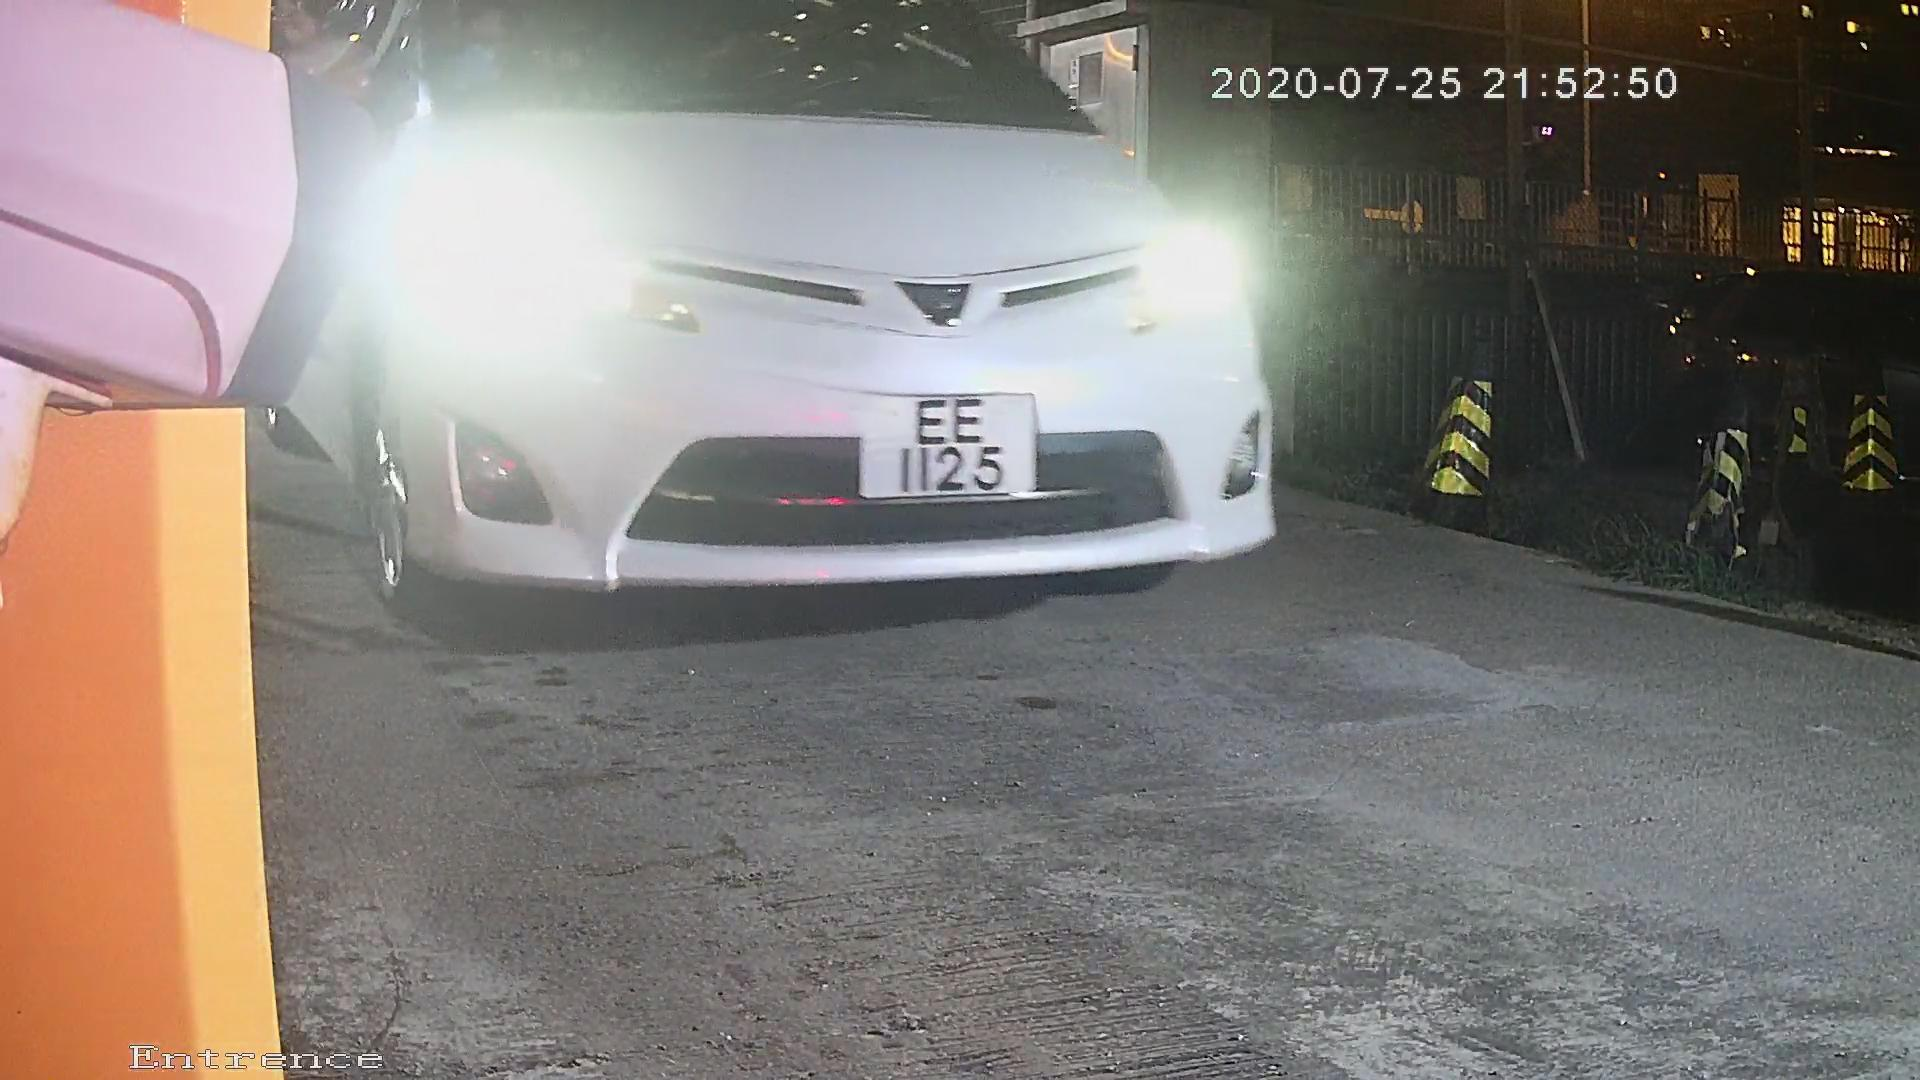privatecar: (291, 1, 1406, 651)
